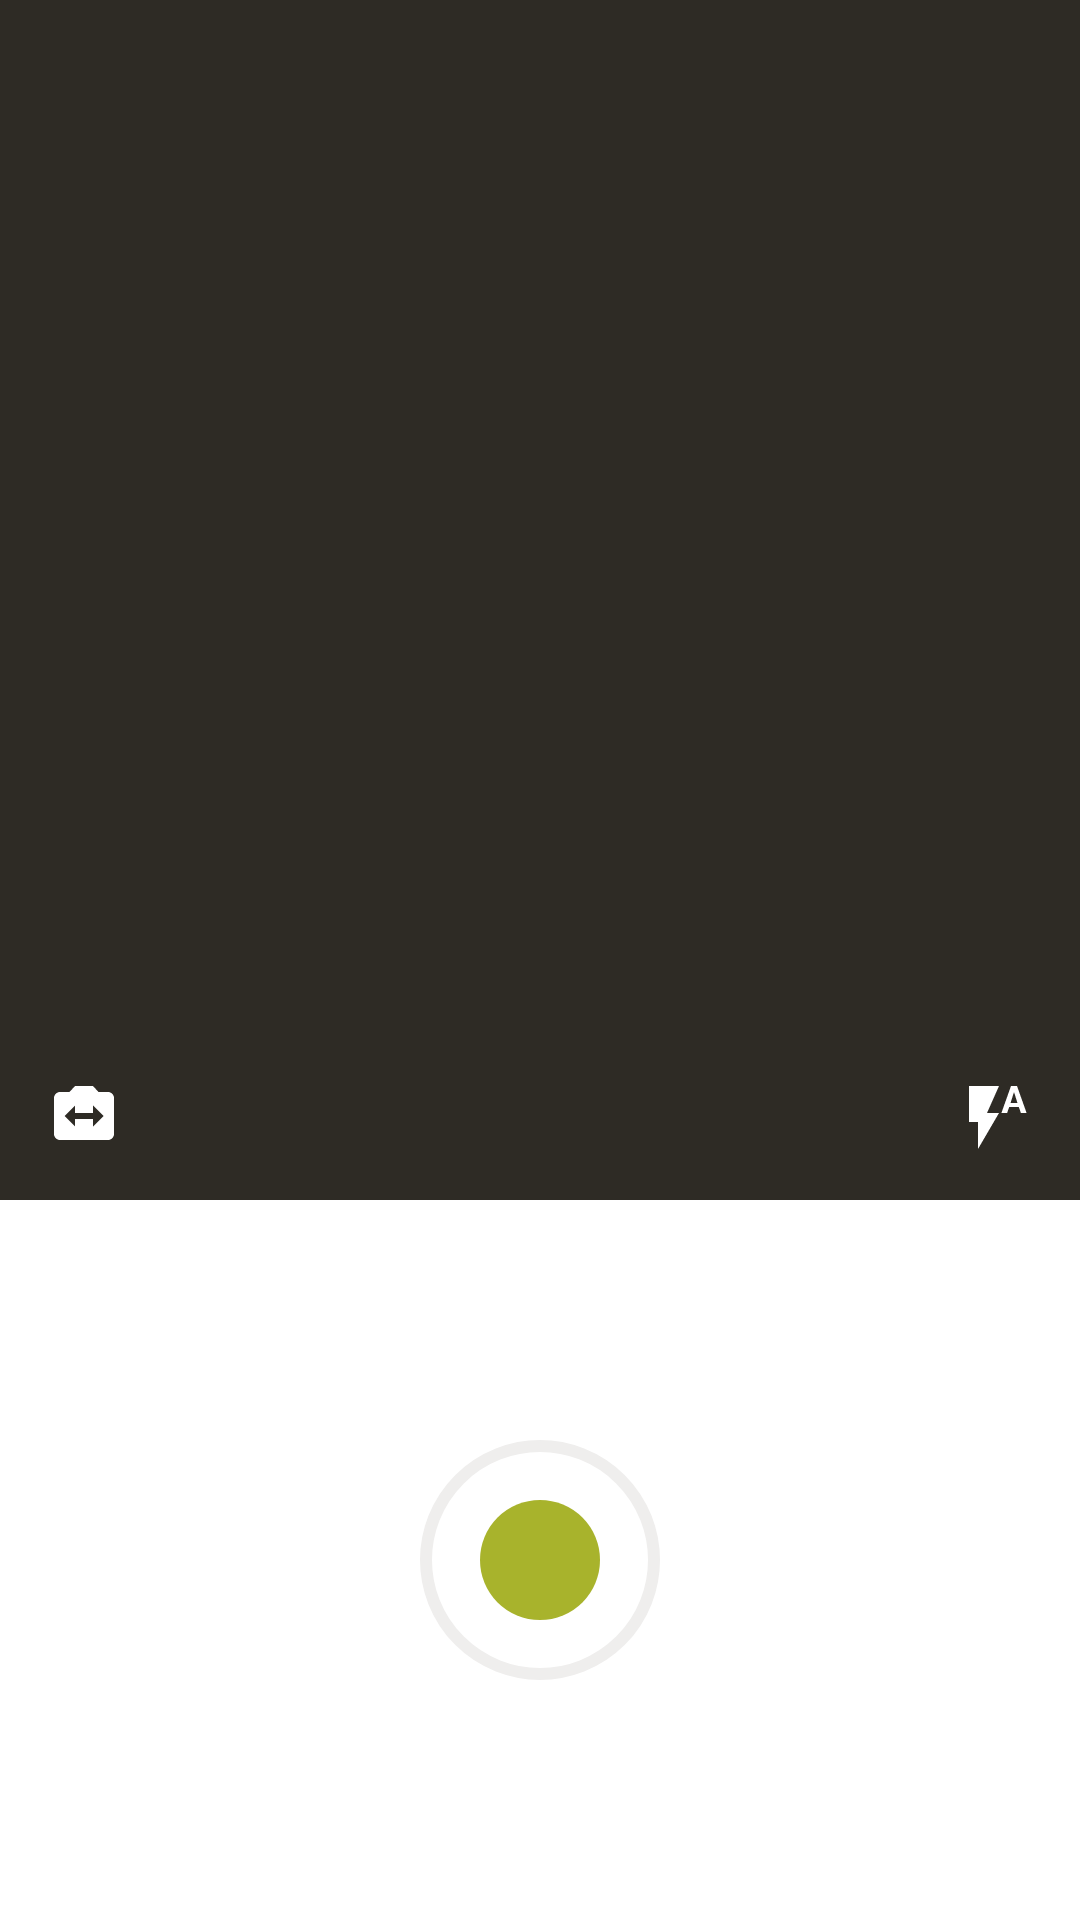

Icon bounding boxes for this 1080 × 1920 phone screenshot, format (x1, y1, x2, y2):
flash auto: (969, 1086, 1027, 1149)
switch camera: (54, 1086, 114, 1140)
